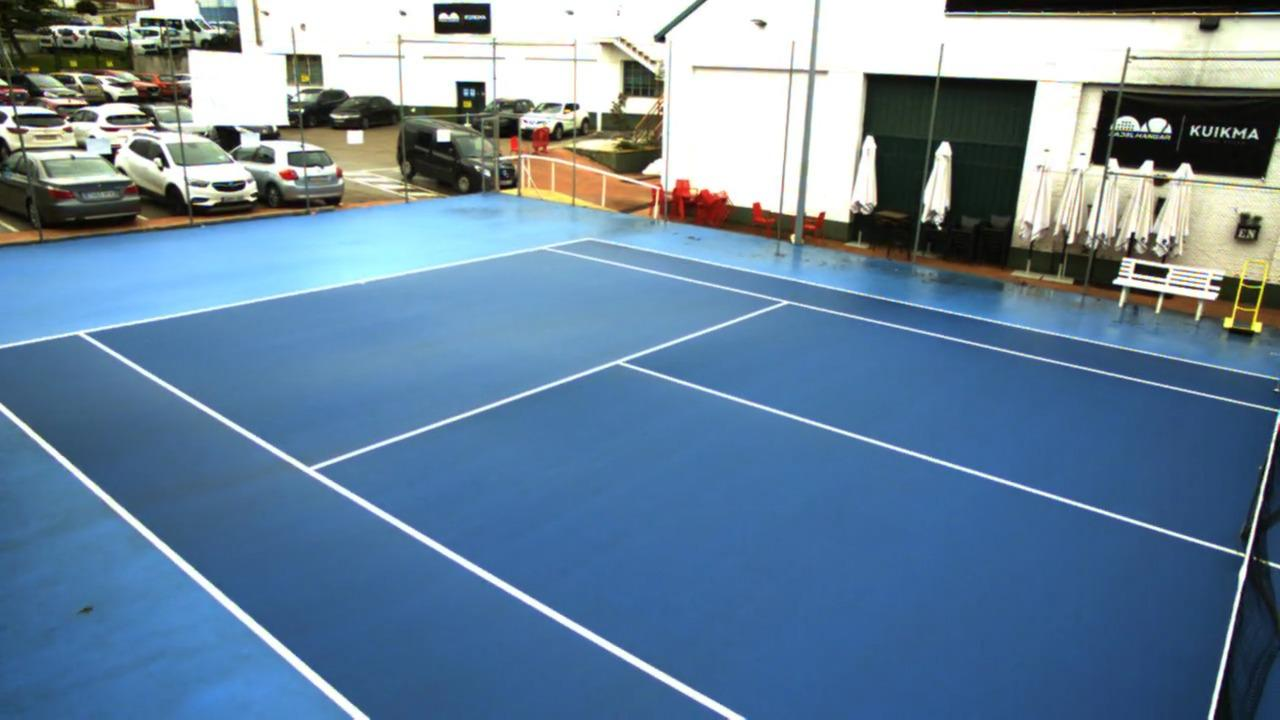cancha_tenis: (80, 246, 1280, 720)
point_f1: (70, 319, 94, 345)
point_f2: (533, 236, 563, 260)
point_fc1: (353, 274, 371, 289)
point_i1: (292, 456, 328, 483)
point_i2: (768, 290, 797, 313)
point_ic1: (605, 350, 639, 373)
